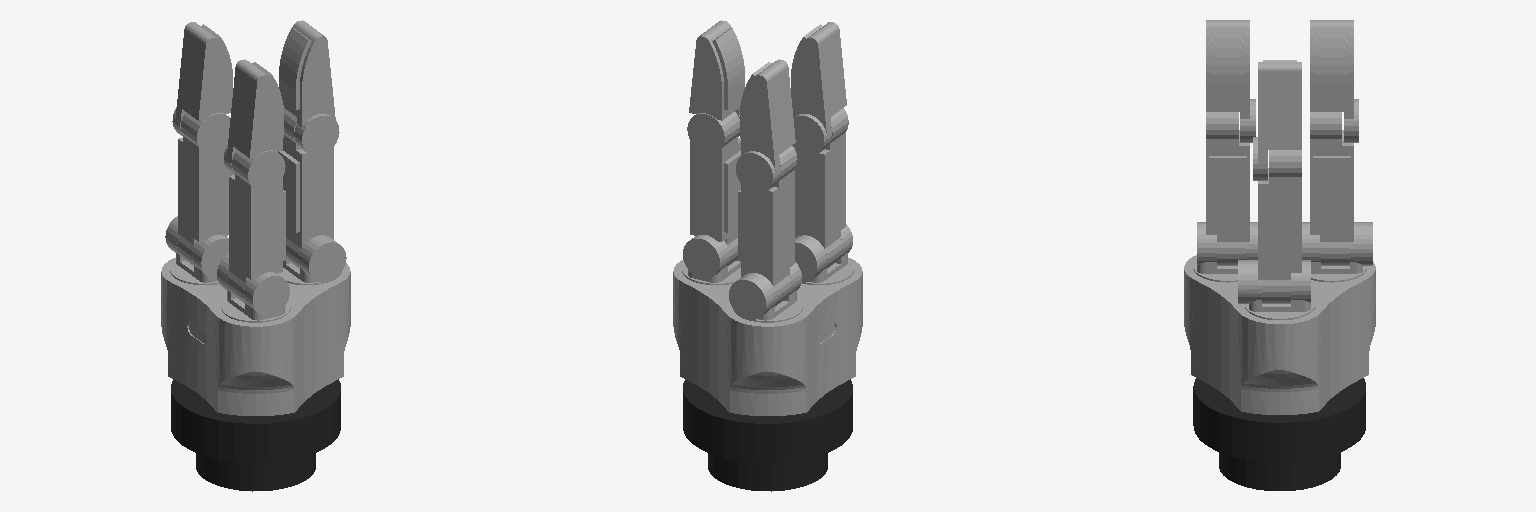
--- Render facts (derived) ---
3 views of the same robot in one strip: view 1: azimuth 30°, elevation 25°; view 2: azimuth 150°, elevation 25°; view 3: azimuth 270°, elevation 25° (orthographic).
Model iiwa with 25 links and 24 joints (15 revolute, 9 fixed), rooted at iiwa_base_link, posed all joints at 0.
Links seen in each view (by area): view 1: sdh2_palm_link, sdh2_adapter_link, sdh2_finger_12_link, sdh2_finger_22_link, sdh2_thumb_3_link, sdh2_thumb_2_link, sdh2_finger_13_link, sdh2_finger_23_link, iiwa_adapter, sdh2_finger_11_link, sdh2_thumb_1_link, sdh2_finger_21_link; view 2: sdh2_palm_link, sdh2_adapter_link, sdh2_thumb_2_link, sdh2_finger_22_link, sdh2_finger_23_link, sdh2_finger_13_link, sdh2_finger_12_link, sdh2_thumb_3_link, iiwa_adapter, sdh2_finger_21_link, sdh2_thumb_1_link, sdh2_finger_11_link; view 3: sdh2_palm_link, sdh2_adapter_link, sdh2_thumb_2_link, sdh2_finger_22_link, sdh2_finger_12_link, sdh2_finger_13_link, sdh2_finger_23_link, sdh2_thumb_3_link, iiwa_adapter, sdh2_thumb_1_link, sdh2_finger_21_link, sdh2_finger_11_link.
Link boxes in pixels (x1,y1,x2,y2): sdh2_palm_link: [161, 258, 350, 415]; sdh2_adapter_link: [171, 379, 340, 462]; sdh2_finger_12_link: [226, 150, 285, 302]; sdh2_finger_22_link: [175, 112, 233, 265]; sdh2_thumb_3_link: [279, 20, 339, 155]; sdh2_thumb_2_link: [278, 108, 333, 268]; sdh2_finger_13_link: [224, 59, 283, 174]; sdh2_finger_23_link: [172, 22, 232, 135]; iiwa_adapter: [196, 453, 315, 491]; sdh2_finger_11_link: [217, 253, 290, 322]; sdh2_thumb_1_link: [278, 235, 346, 284]; sdh2_finger_21_link: [165, 216, 228, 284]; sdh2_palm_link: [673, 258, 862, 415]; sdh2_adapter_link: [683, 379, 852, 462]; sdh2_thumb_2_link: [687, 112, 740, 265]; sdh2_finger_22_link: [738, 146, 797, 305]; sdh2_finger_23_link: [736, 59, 795, 192]; sdh2_finger_13_link: [791, 22, 846, 155]; sdh2_finger_12_link: [795, 108, 848, 267]; sdh2_thumb_3_link: [689, 20, 744, 136]; iiwa_adapter: [708, 453, 827, 491]; sdh2_finger_21_link: [729, 262, 802, 322]; sdh2_thumb_1_link: [682, 235, 740, 284]; sdh2_finger_11_link: [795, 224, 853, 284]; sdh2_palm_link: [1184, 255, 1375, 414]; sdh2_adapter_link: [1193, 378, 1365, 462]; sdh2_thumb_2_link: [1258, 150, 1301, 303]; sdh2_finger_22_link: [1310, 112, 1353, 265]; sdh2_finger_12_link: [1206, 112, 1249, 265]; sdh2_finger_13_link: [1206, 20, 1255, 142]; sdh2_finger_23_link: [1310, 20, 1358, 142]; sdh2_thumb_3_link: [1253, 60, 1301, 180]; iiwa_adapter: [1219, 452, 1340, 490]; sdh2_thumb_1_link: [1238, 260, 1314, 319]; sdh2_finger_21_link: [1302, 222, 1372, 282]; sdh2_finger_11_link: [1193, 222, 1257, 282].
Bounding box of the posed robot: 0.1211 × 0.122 × 0.3015 m (x, y, z).
10 mesh visuals loaded from 12 distinct referenced files (4 binary STL); not drawn: 8 (reference not matched to a file when rendering).

URDF robot description (iiwa):
<?xml version="1.0" ?>
<!-- =================================================================================== -->
<!-- |    This document was autogenerated by xacro from xacro/iiwa_sdh2.xacro          | -->
<!-- |    EDITING THIS FILE BY HAND IS NOT RECOMMENDED                                 | -->
<!-- =================================================================================== -->
<robot name="iiwa" xmlns:controller="http://playerstage.sourceforge.net/gazebo/xmlschema/#controller" xmlns:interface="http://playerstage.sourceforge.net/gazebo/xmlschema/#interface" xmlns:sensor="http://playerstage.sourceforge.net/gazebo/xmlschema/#sensor" xmlns:xacro="http://www.ros.org/wiki/xacro">
  <material name="Black">
    <color rgba="0.0 0.0 0.0 1.0"/>
  </material>
  <material name="Blue">
    <color rgba="0.0 0.0 0.8 1.0"/>
  </material>
  <material name="Green">
    <color rgba="0.0 0.8 0.0 1.0"/>
  </material>
  <material name="Grey">
    <color rgba="0.2 0.2 0.2 1.0"/>
  </material>
  <material name="Orange">
    <color rgba="1.0 0.423529411765 0.0392156862745 1.0"/>
  </material>
  <material name="Brown">
    <color rgba="0.870588235294 0.811764705882 0.764705882353 1.0"/>
  </material>
  <material name="Red">
    <color rgba="0.8 0.0 0.0 1.0"/>
  </material>
  <material name="White">
    <color rgba="1.0 1.0 1.0 1.0"/>
  </material>
  <gazebo>
    <plugin filename="libgazebo_ros_control.so" name="gazebo_ros_controller">
      <robotNamespace>/iiwa</robotNamespace>
    </plugin>
  </gazebo>
  <!-- Fix to world just for testing -->
  <link name="iiwa_base_link"/>
  <!--joint between {parent} and link_0-->
  <joint name="iiwa_base_link_joint" type="fixed">
    <origin rpy="0 0 0" xyz="0 0 0.0"/>
    <parent link="iiwa_base_link"/>
    <child link="iiwa_0_link"/>
  </joint>
  <link name="iiwa_0_link">
    <inertial>
      <origin rpy="0 0 0" xyz="-0.1 0 0.07"/>
      <mass value="5"/>
      <inertia ixx="0.05" ixy="0" ixz="0" iyy="0.06" iyz="0" izz="0.03"/>
    </inertial>
    <visual>
      <origin rpy="0 0 0" xyz="0 0 0"/>
      <geometry>
        <mesh filename="package://iiwa_description/meshes/link_0.stl"/>
      </geometry>
      <material name="Grey"/>
    </visual>
    <collision>
      <origin rpy="0 0 0" xyz="0 0 0"/>
      <geometry>
        <mesh filename="package://iiwa_description/meshes/coarse/link_0.stl"/>
      </geometry>
      <material name="Grey"/>
    </collision>
    <self_collision_checking>
      <origin rpy="0 0 0" xyz="0 0 0"/>
      <geometry>
        <capsule length="0.25" radius="0.15"/>
      </geometry>
    </self_collision_checking>
  </link>
  <!-- joint between link_0 and link_1 -->
  <joint name="iiwa_1_joint" type="revolute">
    <parent link="iiwa_0_link"/>
    <child link="iiwa_1_link"/>
    <origin rpy="0 0 0" xyz="0 0 0.1575"/>
    <axis xyz="0 0 1"/>
    <limit effort="300" lower="-2.94960643587" upper="2.94960643587" velocity="10"/>
    <!--   <safety_controller soft_lower_limit="${-168 * M_PI / 180}"
           soft_upper_limit="${168 * M_PI / 180}"
           k_position="${safety_controller_k_pos}"
           k_velocity="${safety_controller_k_vel}"/> -->
    <dynamics damping="0.5"/>
  </joint>
  <link name="iiwa_1_link">
    <inertial>
      <origin rpy="0 0 0" xyz="0 -0.03 0.12"/>
      <mass value="4"/>
      <inertia ixx="0.1" ixy="0" ixz="0" iyy="0.09" iyz="0" izz="0.02"/>
    </inertial>
    <visual>
      <origin rpy="0 0 0" xyz="0 0 0"/>
      <geometry>
        <mesh filename="package://iiwa_description/meshes/link_1.stl"/>
      </geometry>
      <material name="Orange"/>
    </visual>
    <collision>
      <origin rpy="0 0 0" xyz="0 0 0"/>
      <geometry>
        <mesh filename="package://iiwa_description/meshes/coarse/link_1.stl"/>
      </geometry>
      <material name="Orange"/>
    </collision>
  </link>
  <!-- joint between link_1 and link_2 -->
  <joint name="iiwa_2_joint" type="revolute">
    <parent link="iiwa_1_link"/>
    <child link="iiwa_2_link"/>
    <origin rpy="1.57079632679   0 3.14159265359" xyz="0 0 0.2025"/>
    <axis xyz="0 0 1"/>
    <limit effort="300" lower="-2.07694180987" upper="2.07694180987" velocity="10"/>
    <!-- <safety_controller soft_lower_limit="${-118 * PI / 180}"
           soft_upper_limit="${118 * PI / 180}"
           k_position="${safety_controller_k_pos}"
           k_velocity="${safety_controller_k_vel}"/> -->
    <dynamics damping="0.5"/>
  </joint>
  <link name="iiwa_2_link">
    <inertial>
      <origin rpy="0 0 0" xyz="0.0003 0.059 0.042"/>
      <mass value="4"/>
      <inertia ixx="0.05" ixy="0" ixz="0" iyy="0.018" iyz="0" izz="0.044"/>
    </inertial>
    <visual>
      <origin rpy="0 0 0" xyz="0 0 0"/>
      <geometry>
        <mesh filename="package://iiwa_description/meshes/link_2.stl"/>
      </geometry>
      <material name="Orange"/>
    </visual>
    <collision>
      <origin rpy="0 0 0" xyz="0 0 0"/>
      <geometry>
        <mesh filename="package://iiwa_description/meshes/coarse/link_2.stl"/>
      </geometry>
      <material name="Orange"/>
    </collision>
  </link>
  <!-- joint between link_2 and link_3 -->
  <joint name="iiwa_3_joint" type="revolute">
    <parent link="iiwa_2_link"/>
    <child link="iiwa_3_link"/>
    <origin rpy="1.57079632679 0 3.14159265359" xyz="0 0.2045 0"/>
    <axis xyz="0 0 1"/>
    <limit effort="300" lower="-2.94960643587" upper="2.94960643587" velocity="10"/>
    <!-- <safety_controller soft_lower_limit="${-118 * PI / 180}"
           soft_upper_limit="${118 * PI / 180}"
           k_position="${safety_controller_k_pos}"
           k_velocity="${safety_controller_k_vel}"/> -->
    <dynamics damping="0.5"/>
  </joint>
  <link name="iiwa_3_link">
    <inertial>
      <origin rpy="0 0 0" xyz="0 0.03 0.13"/>
      <mass value="3"/>
      <inertia ixx="0.08" ixy="0" ixz="0" iyy="0.075" iyz="0" izz="0.01"/>
    </inertial>
    <visual>
      <origin rpy="0 0 0" xyz="0 0 0"/>
      <geometry>
        <mesh filename="package://iiwa_description/meshes/link_3.stl"/>
      </geometry>
      <material name="Orange"/>
    </visual>
    <collision>
      <origin rpy="0 0 0" xyz="0 0 0"/>
      <geometry>
        <mesh filename="package://iiwa_description/meshes/coarse/link_3.stl"/>
      </geometry>
      <material name="Orange"/>
    </collision>
  </link>
  <!-- joint between link_3 and link_4 -->
  <joint name="iiwa_4_joint" type="revolute">
    <parent link="iiwa_3_link"/>
    <child link="iiwa_4_link"/>
    <origin rpy="1.57079632679 0 0" xyz="0 0 0.2155"/>
    <axis xyz="0 0 1"/>
    <limit effort="300" lower="-2.07694180987" upper="2.07694180987" velocity="10"/>
    <!-- <safety_controller soft_lower_limit="${-118 * PI / 180}"
           soft_upper_limit="${118 * PI / 180}"
           k_position="${safety_controller_k_pos}"
           k_velocity="${safety_controller_k_vel}"/> -->
    <dynamics damping="0.5"/>
  </joint>
  <link name="iiwa_4_link">
    <inertial>
      <origin rpy="0 0 0" xyz="0 0.067 0.034"/>
      <mass value="2.7"/>
      <inertia ixx="0.03" ixy="0" ixz="0" iyy="0.01" iyz="0" izz="0.029"/>
    </inertial>
    <visual>
      <origin rpy="0 0 0" xyz="0 0 0"/>
      <geometry>
        <mesh filename="package://iiwa_description/meshes/link_4.stl"/>
      </geometry>
      <material name="Orange"/>
    </visual>
    <collision>
      <origin rpy="0 0 0" xyz="0 0 0"/>
      <geometry>
        <mesh filename="package://iiwa_description/meshes/coarse/link_4.stl"/>
      </geometry>
      <material name="Orange"/>
    </collision>
  </link>
  <!-- joint between link_4 and link_5 -->
  <joint name="iiwa_5_joint" type="revolute">
    <parent link="iiwa_4_link"/>
    <child link="iiwa_5_link"/>
    <origin rpy="-1.57079632679 3.14159265359 0" xyz="0 0.1845 0"/>
    <axis xyz="0 0 1"/>
    <limit effort="300" lower="-2.94960643587" upper="2.94960643587" velocity="10"/>
    <!-- <safety_controller soft_lower_limit="${-118 * PI / 180}"
           soft_upper_limit="${118 * PI / 180}"
           k_position="${safety_controller_k_pos}"
           k_velocity="${safety_controller_k_vel}"/> -->
    <dynamics damping="0.5"/>
  </joint>
  <link name="iiwa_5_link">
    <inertial>
      <origin rpy="0 0 0" xyz="0.0001 0.021 0.076"/>
      <mass value="1.7"/>
      <inertia ixx="0.02" ixy="0" ixz="0" iyy="0.018" iyz="0" izz="0.005"/>
    </inertial>
    <visual>
      <origin rpy="0 0 0" xyz="0 0 0"/>
      <geometry>
        <mesh filename="package://iiwa_description/meshes/link_5.stl"/>
      </geometry>
      <material name="Orange"/>
    </visual>
    <collision>
      <origin rpy="0 0 0" xyz="0 0 0"/>
      <geometry>
        <mesh filename="package://iiwa_description/meshes/coarse/link_5.stl"/>
      </geometry>
      <material name="Orange"/>
    </collision>
  </link>
  <!-- joint between link_5 and link_6 -->
  <joint name="iiwa_6_joint" type="revolute">
    <parent link="iiwa_5_link"/>
    <child link="iiwa_6_link"/>
    <origin rpy="1.57079632679 0 0" xyz="0 0 0.2155"/>
    <axis xyz="0 0 1"/>
    <limit effort="300" lower="-2.07694180987" upper="2.07694180987" velocity="10"/>
    <!-- <safety_controller soft_lower_limit="${-118 * PI / 180}"
           soft_upper_limit="${118 * PI / 180}"
           k_position="${safety_controller_k_pos}"
           k_velocity="${safety_controller_k_vel}"/> -->
    <dynamics damping="0.5"/>
  </joint>
  <link name="iiwa_6_link">
    <inertial>
      <origin rpy="0 0 0" xyz="0 0.0006 0.0004"/>
      <mass value="1.8"/>
      <inertia ixx="0.005" ixy="0" ixz="0" iyy="0.0036" iyz="0" izz="0.0047"/>
    </inertial>
    <visual>
      <origin rpy="0 0 0" xyz="0 0 0"/>
      <geometry>
        <mesh filename="package://iiwa_description/meshes/link_6.stl"/>
      </geometry>
      <material name="Orange"/>
    </visual>
    <collision>
      <origin rpy="0 0 0" xyz="0 0 0"/>
      <geometry>
        <mesh filename="package://iiwa_description/meshes/coarse/link_6.stl"/>
      </geometry>
      <material name="Orange"/>
    </collision>
  </link>
  <!-- joint between link_6 and link_7 -->
  <joint name="iiwa_7_joint" type="revolute">
    <parent link="iiwa_6_link"/>
    <child link="iiwa_7_link"/>
    <origin rpy="-1.57079632679 3.14159265359 0" xyz="0 0.081 0"/>
    <axis xyz="0 0 1"/>
    <limit effort="300" lower="-3.03687289847" upper="3.03687289847" velocity="10"/>
    <!-- <safety_controller soft_lower_limit="${-118 * PI / 180}"
           soft_upper_limit="${118 * PI / 180}"
           k_position="${safety_controller_k_pos}"
           k_velocity="${safety_controller_k_vel}"/> -->
    <dynamics damping="0.5"/>
  </joint>
  <link name="iiwa_7_link">
    <inertial>
      <origin rpy="0 0 0" xyz="0 0 0.02"/>
      <mass value="0.3"/>
      <inertia ixx="0.001" ixy="0" ixz="0" iyy="0.001" iyz="0" izz="0.001"/>
    </inertial>
    <visual>
      <origin rpy="0 0 0" xyz="0 0 0"/>
      <geometry>
        <mesh filename="package://iiwa_description/meshes/link_7.stl"/>
      </geometry>
      <material name="Grey"/>
    </visual>
    <collision>
      <origin rpy="0 0 0" xyz="0 0 0"/>
      <geometry>
        <mesh filename="package://iiwa_description/meshes/coarse/link_7.stl"/>
      </geometry>
      <material name="Grey"/>
    </collision>
  </link>
  <joint name="adapter" type="fixed">
    <parent link="iiwa_7_link"/>
    <child link="iiwa_adapter"/>
    <origin rpy="0 0 0" xyz="0 0 0.06"/>
  </joint>
  <link name="iiwa_adapter">
    <visual>
      <geometry>
        <cylinder length="0.029" radius="0.039"/>
      </geometry>
      <material name="Grey"/>
    </visual>
    <collision>
      <geometry>
        <cylinder length="0.029" radius="0.039"/>
      </geometry>
    </collision>
  </link>
  <joint name="flange" type="fixed">
    <parent link="iiwa_adapter"/>
    <child link="iiwa_flange_link"/>
    <origin rpy="0 0 0" xyz="0 0 0.013"/>
  </joint>
  <link name="iiwa_flange_link"/>
  <!--Extensions -->
  <!-- <xacro:iiwa_gazebo name="${name}" />
    <xacro:iiwa_transmission name="${name}" hardware_interface="${hardware_interface}"/> -->
  <material name="Schunk/LightGrey">
    <color rgba="0.7 0.7 0.7 1.0"/>
  </material>
  <material name="Schunk/DarkGrey">
    <color rgba="0.4 0.4 0.4 1.0"/>
  </material>
  <material name="Schunk/Black">
    <color rgba="0.0 0.0 0.0 1.0"/>
  </material>
  <material name="Schunk/DarkGolden">
    <color rgba="0.4 0.4 0.3 1.0"/>
  </material>
  <material name="Schunk/Blue">
    <color rgba="0.0 0.0 0.8 1.0"/>
  </material>
  <link name="sdh2_adapter_link">
    <visual>
      <geometry>
        <cylinder length="0.028" radius="0.055"/>
      </geometry>
      <origin rpy="0 0 0" xyz="0 0 0.014"/>
      <material name="Grey"/>
    </visual>
    <collision>
      <geometry>
        <cylinder length="0.028" radius="0.055"/>
      </geometry>
      <origin rpy="0 0 0" xyz="0 0 0.014"/>
    </collision>
  </link>
  <!-- adapter joint -->
  <joint name="sdh2_adapter_joint" type="fixed">
    <origin rpy="0 0 0" xyz="0 0 0.028"/>
    <parent link="sdh2_adapter_link"/>
    <child link="sdh2_palm_link"/>
  </joint>
  <link name="sdh2_palm_link">
    <inertial>
      <origin rpy="0 0 0" xyz="0 0 0"/>
      <mass value="1"/>
      <inertia ixx="0.01" ixy="0" ixz="0" iyy="0.01" iyz="0" izz="0.01"/>
    </inertial>
    <visual>
      <origin rpy="0 0 0" xyz="0 0 0"/>
      <geometry>
        <mesh filename="package://sdh2_description/meshes/palm.stl"/>
      </geometry>
      <material name="Schunk/LightGrey"/>
    </visual>
    <collision>
      <origin rpy="0 0 0" xyz="0 0 0"/>
      <geometry>
        <mesh filename="package://sdh2_description/meshes/palm_low_res.stl"/>
      </geometry>
    </collision>
  </link>
  <!-- grasp joint -->
  <joint name="sdh2_grasp_joint" type="fixed">
    <origin rpy="0 0 0" xyz="-0.012 0 0.15"/>
    <parent link="sdh2_palm_link"/>
    <child link="sdh2_grasp_link"/>
  </joint>
  <link name="sdh2_grasp_link"/>
  <!-- tip joint -->
  <joint name="sdh2_tip_joint" type="fixed">
    <origin rpy="0 0 0" xyz="-0.012 0 0.22"/>
    <parent link="sdh2_palm_link"/>
    <child link="sdh2_tip_link"/>
  </joint>
  <link name="sdh2_tip_link"/>
  <!-- push joint -->
  <joint name="sdh2_push_joint" type="fixed">
    <origin rpy="0 0 0" xyz="0 0 0.25"/>
    <parent link="sdh2_palm_link"/>
    <child link="sdh2_push_link"/>
  </joint>
  <link name="sdh2_push_link"/>
  <!-- finger1 -->
  <!-- joint between sdh_palm_link and sdh_finger_11_link -->
  <joint name="sdh2_knuckle_joint" type="revolute">
    <origin rpy="0 0 3.14159265" xyz="0.01905 0.033 0.0745"/>
    <parent link="sdh2_palm_link"/>
    <child link="sdh2_finger_11_link"/>
    <axis xyz="0 0 1"/>
    <dynamics damping="1"/>
    <limit effort="100" lower="0" upper="1.570796327" velocity="5"/>
  </joint>
  <link name="sdh2_finger_11_link">
    <inertial>
      <origin rpy="0 0 0" xyz="0 0 0"/>
      <mass value="0.1"/>
      <inertia ixx="0.01" ixy="0" ixz="0" iyy="0.01" iyz="0" izz="0.01"/>
    </inertial>
    <visual>
      <origin rpy="0 0 0" xyz="0 0 0"/>
      <geometry>
        <mesh filename="package://sdh2_description/meshes/knuckle.stl"/>
      </geometry>
      <material name="Schunk/LightGrey"/>
    </visual>
    <collision>
      <origin rpy="0 0 0" xyz="0 0 0"/>
      <geometry>
        <mesh filename="package://sdh2_description/meshes/knuckle_low_res.stl"/>
      </geometry>
    </collision>
  </link>
  <!-- joint between sdh_finger_11_link and sdh_finger_12_link -->
  <joint name="sdh2_finger_12_joint" type="revolute">
    <origin rpy="0 0 0" xyz="0 0 0.0165"/>
    <parent link="sdh2_finger_11_link"/>
    <child link="sdh2_finger_12_link"/>
    <axis xyz="0 1 0"/>
    <dynamics damping="1"/>
    <limit effort="100" lower="-1.570796327" upper="1.570796327" velocity="5"/>
  </joint>
  <link name="sdh2_finger_12_link">
    <inertial>
      <origin rpy="0 0 0" xyz="0 0 0"/>
      <mass value="0.1"/>
      <inertia ixx="0.01" ixy="0" ixz="0" iyy="0.01" iyz="0" izz="0.01"/>
    </inertial>
    <visual>
      <origin rpy="0 0 0" xyz="0 0 0"/>
      <geometry>
        <mesh filename="package://sdh2_description/meshes/finger.stl"/>
      </geometry>
      <material name="Schunk/LightGrey"/>
    </visual>
    <collision>
      <origin rpy="0 0 0" xyz="0 0 0"/>
      <geometry>
        <mesh filename="package://sdh2_description/meshes/finger_low_res.stl"/>
      </geometry>
    </collision>
  </link>
  <!-- joint between sdh_finger_12_link and sdh_finger_13_link -->
  <joint name="sdh2_finger_13_joint" type="revolute">
    <origin rpy="0 0 0" xyz="0 0 0.0865"/>
    <parent link="sdh2_finger_12_link"/>
    <child link="sdh2_finger_13_link"/>
    <axis xyz="0 1 0"/>
    <dynamics damping="1"/>
    <limit effort="100" lower="-1.570796327" upper="1.570796327" velocity="5"/>
  </joint>
  <link name="sdh2_finger_13_link">
    <inertial>
      <origin rpy="0 0 0" xyz="0 0 0"/>
      <mass value="0.1"/>
      <inertia ixx="0.01" ixy="0" ixz="0" iyy="0.01" iyz="0" izz="0.01"/>
    </inertial>
    <visual>
      <origin rpy="0 0 0" xyz="0 0 0"/>
      <geometry>
        <mesh filename="package://sdh2_description/meshes/finger_tip.stl"/>
      </geometry>
      <material name="Schunk/LightGrey"/>
    </visual>
    <collision>
      <origin rpy="0 0 0" xyz="0 0 0"/>
      <geometry>
        <mesh filename="package://sdh2_description/meshes/finger_tip_low_res.stl"/>
      </geometry>
    </collision>
  </link>
  <!-- finger2 -->
  <!-- joint between sdh_palm_link and sdh_finger_21_link -->
  <joint name="sdh2_finger_21_joint" type="revolute">
    <mimic joint="sdh2_knuckle_joint" multiplier="1" offset="0"/>
    <origin rpy="0 0 3.14159265" xyz="0.01905 -0.033 0.0745"/>
    <parent link="sdh2_palm_link"/>
    <child link="sdh2_finger_21_link"/>
    <axis xyz="0 0 -1"/>
    <dynamics damping="1"/>
    <limit effort="100" lower="0" upper="1.570796327" velocity="5"/>
  </joint>
  <link name="sdh2_finger_21_link">
    <inertial>
      <origin rpy="0 0 0" xyz="0 0 0"/>
      <mass value="0.1"/>
      <inertia ixx="0.01" ixy="0" ixz="0" iyy="0.01" iyz="0" izz="0.01"/>
    </inertial>
    <visual>
      <origin rpy="0 0 0" xyz="0 0 0"/>
      <geometry>
        <mesh filename="package://sdh2_description/meshes/knuckle.stl"/>
      </geometry>
      <material name="Schunk/LightGrey"/>
    </visual>
    <collision>
      <origin rpy="0 0 0" xyz="0 0 0"/>
      <geometry>
        <mesh filename="package://sdh2_description/meshes/knuckle_low_res.stl"/>
      </geometry>
    </collision>
  </link>
  <!-- joint between sdh_finger_21_link and sdh_finger_22_link -->
  <joint name="sdh2_finger_22_joint" type="revolute">
    <origin rpy="0 0 0" xyz="0 0 0.0165"/>
    <parent link="sdh2_finger_21_link"/>
    <child link="sdh2_finger_22_link"/>
    <axis xyz="0 1 0"/>
    <dynamics damping="1"/>
    <limit effort="100" lower="-1.570796327" upper="1.570796327" velocity="5"/>
  </joint>
  <link name="sdh2_finger_22_link">
    <inertial>
      <origin rpy="0 0 0" xyz="0 0 0"/>
      <mass value="0.1"/>
      <inertia ixx="0.01" ixy="0" ixz="0" iyy="0.01" iyz="0" izz="0.01"/>
    </inertial>
    <visual>
      <origin rpy="0 0 0" xyz="0 0 0"/>
      <geometry>
        <mesh filename="package://sdh2_description/meshes/finger.stl"/>
      </geometry>
      <material name="Schunk/LightGrey"/>
    </visual>
    <collision>
      <origin rpy="0 0 0" xyz="0 0 0"/>
      <geometry>
        <mesh filename="package://sdh2_description/meshes/finger_low_res.stl"/>
      </geometry>
    </collision>
  </link>
  <!-- joint between sdh_finger_22_link and sdh_finger_23_link -->
  <joint name="sdh2_finger_23_joint" type="revolute">
    <origin rpy="0 0 0" xyz="0 0 0.0865"/>
    <parent link="sdh2_finger_22_link"/>
    <child link="sdh2_finger_23_link"/>
    <axis xyz="0 1 0"/>
    <dynamics damping="1"/>
    <limit effort="100" lower="-1.570796327" upper="1.570796327" velocity="5"/>
  </joint>
  <link name="sdh2_finger_23_link">
    <inertial>
      <origin rpy="0 0 0" xyz="0 0 0"/>
      <mass value="0.1"/>
      <inertia ixx="0.01" ixy="0" ixz="0" iyy="0.01" iyz="0" izz="0.01"/>
    </inertial>
    <visual>
      <origin rpy="0 0 0" xyz="0 0 0"/>
      <geometry>
        <mesh filename="package://sdh2_description/meshes/finger_tip.stl"/>
      </geometry>
      <material name="Schunk/LightGrey"/>
    </visual>
    <collision>
      <origin rpy="0 0 0" xyz="0 0 0"/>
      <geometry>
        <mesh filename="package://sdh2_description/meshes/finger_tip_low_res.stl"/>
      </geometry>
    </collision>
  </link>
  <!-- thumb -->
  <!-- joint between sdh_palm_link and sdh_thumb_1_link -->
  <joint name="sdh2_thumb_1_joint" type="fixed">
    <origin rpy="0 0 0" xyz="-0.03811 0 0.0745 "/>
    <parent link="sdh2_palm_link"/>
    <child link="sdh2_thumb_1_link"/>
  </joint>
  <link name="sdh2_thumb_1_link">
    <inertial>
      <origin rpy="0 0 0" xyz="0 0 0"/>
      <mass value="0.1"/>
      <inertia ixx="0.01" ixy="0" ixz="0" iyy="0.01" iyz="0" izz="0.01"/>
    </inertial>
    <visual>
      <origin rpy="0 0 0" xyz="0 0 0"/>
      <geometry>
        <mesh filename="package://sdh2_description/meshes/knuckle.stl"/>
      </geometry>
      <material name="Schunk/LightGrey"/>
    </visual>
    <collision>
      <origin rpy="0 0 0" xyz="0 0 0"/>
      <geometry>
        <mesh filename="package://sdh2_description/meshes/knuckle_low_res.stl"/>
      </geometry>
    </collision>
  </link>
  <!-- joint between sdh_thumb_1_link and shd_thumb_2_link -->
  <joint name="sdh2_thumb_2_joint" type="revolute">
    <origin rpy="0 0 0" xyz="0 0 0.0165"/>
    <parent link="sdh2_thumb_1_link"/>
    <child link="sdh2_thumb_2_link"/>
    <axis xyz="0 1 0"/>
    <dynamics damping="1"/>
    <limit effort="100" lower="-1.570796327" upper="1.570796327" velocity="5"/>
  </joint>
  <link name="sdh2_thumb_2_link">
    <inertial>
      <origin rpy="0 0 0" xyz="0 0 0"/>
      <mass value="0.1"/>
      <inertia ixx="0.01" ixy="0" ixz="0" iyy="0.01" iyz="0" izz="0.01"/>
    </inertial>
    <visual>
      <origin rpy="0 0 0" xyz="0 0 0"/>
      <geometry>
        <mesh filename="package://sdh2_description/meshes/finger.stl"/>
      </geometry>
      <material name="Schunk/LightGrey"/>
    </visual>
    <collision>
      <origin rpy="0 0 0" xyz="0 0 0"/>
      <geometry>
        <mesh filename="package://sdh2_description/meshes/finger_low_res.stl"/>
      </geometry>
    </collision>
  </link>
  <!-- joint between sdh_thumb_2_link and sdh_thumb_3_link -->
  <joint name="sdh2_thumb_3_joint" type="revolute">
    <origin rpy="0 0 0" xyz="0 0 0.0865"/>
    <parent link="sdh2_thumb_2_link"/>
    <child link="sdh2_thumb_3_link"/>
    <axis xyz="0 1 0"/>
    <dynamics damping="1"/>
    <limit effort="100" lower="-1.570796327" upper="1.570796327" velocity="5"/>
  </joint>
  <link name="sdh2_thumb_3_link">
    <inertial>
      <origin rpy="0 0 0" xyz="0 0 0"/>
      <mass value="0.1"/>
      <inertia ixx="0.01" ixy="0" ixz="0" iyy="0.01" iyz="0" izz="0.01"/>
    </inertial>
    <visual>
      <origin rpy="0 0 0" xyz="0 0 0"/>
      <geometry>
        <mesh filename="package://sdh2_description/meshes/finger_tip.stl"/>
      </geometry>
      <material name="Schunk/LightGrey"/>
    </visual>
    <collision>
      <origin rpy="0 0 0" xyz="0 0 0"/>
      <geometry>
        <mesh filename="package://sdh2_description/meshes/finger_tip_low_res.stl"/>
      </geometry>
    </collision>
  </link>
  <!-- ros_control plugin -->
  <gazebo>
    <plugin filename="libgazebo_ros_control.so" name="gazebo_ros_control">
      <robotNamespace>/sdh2</robotNamespace>
      <robotSimType>gazebo_ros_control/DefaultRobotHWSim</robotSimType>
    </plugin>
  </gazebo>
  <gazebo reference="sdh2_adapter_link">
    <material>Schunk/LightGrey</material>
    <turnGravityOff>false</turnGravityOff>
  </gazebo>
  <gazebo reference="sdh2_palm_link">
    <material>Schunk/LightGrey</material>
    <turnGravityOff>false</turnGravityOff>
  </gazebo>
  <gazebo reference="sdh2_finger_11_link">
    <material>Schunk/LightGrey</material>
    <turnGravityOff>false</turnGravityOff>
  </gazebo>
  <gazebo reference="sdh2_finger_12_link">
    <selfCollide>true</selfCollide>
    <material>Schunk/LightGrey</material>
    <turnGravityOff>false</turnGravityOff>
  </gazebo>
  <gazebo reference="sdh2_finger_13_link">
    <selfCollide>true</selfCollide>
    <material>Schunk/LightGrey</material>
  </gazebo>
  <gazebo reference="sdh2_finger_21_link">
    <material>Schunk/LightGrey</material>
    <turnGravityOff>false</turnGravityOff>
  </gazebo>
  <gazebo reference="sdh2_finger_22_link">
    <selfCollide>true</selfCollide>
    <material>Schunk/LightGrey</material>
    <turnGravityOff>false</turnGravityOff>
  </gazebo>
  <gazebo reference="sdh2_finger_23_link">
    <selfCollide>true</selfCollide>
    <material>Schunk/LightGrey</material>
  </gazebo>
  <gazebo reference="sdh2_thumb_1_link">
    <material>Schunk/LightGrey</material>
    <turnGravityOff>false</turnGravityOff>
  </gazebo>
  <gazebo reference="sdh2_thumb_2_link">
    <selfCollide>true</selfCollide>
    <material>Schunk/LightGrey</material>
    <turnGravityOff>false</turnGravityOff>
  </gazebo>
  <gazebo reference="sdh2_thumb_3_link">
    <selfCollide>true</selfCollide>
    <material>Schunk/LightGrey</material>
  </gazebo>
  <transmission name="sdh2_knuckle_trans">
    <type>pr2_mechanism_model/SimpleTransmission</type>
    <actuator name="sdh2_knuckle_motor">
      <hardwareInterface>EffortJointInterface</hardwareInterface>
    </actuator>
    <joint name="sdh2_finger_21_joint">
      <hardwareInterface>EffortJointInterface</hardwareInterface>
    </joint>
    <mechanicalReduction>1</mechanicalReduction>
  </transmission>
  <transmission name="sdh2_knuckle_trans">
    <type>pr2_mechanism_model/SimpleTransmission</type>
    <actuator name="sdh2_knuckle_motor">
      <hardwareInterface>EffortJointInterface</hardwareInterface>
    </actuator>
    <joint name="sdh2_knuckle_joint">
      <hardwareInterface>EffortJointInterface</hardwareInterface>
    </joint>
    <mechanicalReduction>1</mechanicalReduction>
  </transmission>
  <!-- finger1 -->
  <transmission name="sdh2_finger_12_trans">
    <type>pr2_mechanism_model/SimpleTransmission</type>
    <actuator name="sdh2_finger_12_motor">
      <hardwareInterface>EffortJointInterface</hardwareInterface>
    </actuator>
    <joint name="sdh2_finger_12_joint">
      <hardwareInterface>EffortJointInterface</hardwareInterface>
    </joint>
    <mechanicalReduction>1</mechanicalReduction>
  </transmission>
  <transmission name="sdh2_finger_13_trans">
    <type>pr2_mechanism_model/SimpleTransmission</type>
    <actuator name="sdh2_finger_13_motor">
      <hardwareInterface>EffortJointInterface</hardwareInterface>
    </actuator>
    <joint name="sdh2_finger_13_joint">
      <hardwareInterface>EffortJointInterface</hardwareInterface>
    </joint>
    <mechanicalReduction>1</mechanicalReduction>
  </transmission>
  <!-- finger2 -->
  <transmission name="sdh2_finger_22_trans">
    <type>pr2_mechanism_model/SimpleTransmission</type>
    <actuator name="sdh2_finger_22_motor">
      <hardwareInterface>EffortJointInterface</hardwareInterface>
    </actuator>
    <joint name="sdh2_finger_22_joint">
      <hardwareInterface>EffortJointInterface</hardwareInterface>
    </joint>
    <mechanicalReduction>1</mechanicalReduction>
  </transmission>
  <transmission name="sdh2_finger_23_trans">
    <type>pr2_mechanism_model/SimpleTransmission</type>
    <actuator name="sdh2_finger_23_motor">
      <hardwareInterface>EffortJointInterface</hardwareInterface>
    </actuator>
    <joint name="sdh2_finger_23_joint">
      <hardwareInterface>EffortJointInterface</hardwareInterface>
    </joint>
    <mechanicalReduction>1</mechanicalReduction>
  </transmission>
  <!-- thumb -->
  <transmission name="sdh2_thumb_2_trans">
    <type>pr2_mechanism_model/SimpleTransmission</type>
    <actuator name="sdh2_thumb_2_motor">
      <hardwareInterface>EffortJointInterface</hardwareInterface>
    </actuator>
    <joint name="sdh2_thumb_2_joint">
      <hardwareInterface>EffortJointInterface</hardwareInterface>
    </joint>
    <mechanicalReduction>1</mechanicalReduction>
  </transmission>
  <transmission name="sdh2_thumb_3_trans">
    <type>pr2_mechanism_model/SimpleTransmission</type>
    <actuator name="sdh2_thumb_3_motor">
      <hardwareInterface>EffortJointInterface</hardwareInterface>
    </actuator>
    <joint name="sdh2_thumb_3_joint">
      <hardwareInterface>EffortJointInterface</hardwareInterface>
    </joint>
    <mechanicalReduction>1</mechanicalReduction>
  </transmission>
  <joint name="sdh2_palm_joint" type="fixed">
    <origin rpy="0 0 3.1415926535897931" xyz="0 0 0"/>
    <parent link="iiwa_flange_link"/>
    <child link="sdh2_adapter_link"/>
  </joint>
</robot>
